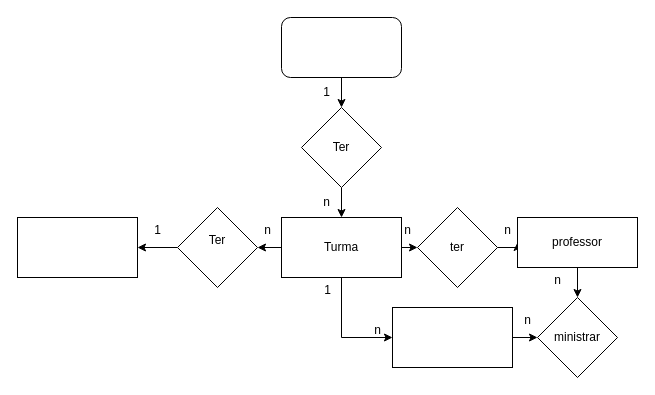
Some shapes in this 655 by 395 pixel diagram are drawn without their labels. The shapes that lost their labels are listed below. From the top down, each one's box as (x1, y1, x2, y2) in pixels, then its label:
(280, 16, 402, 78): Escola
(16, 216, 138, 278): sala
(392, 306, 512, 368): aula
